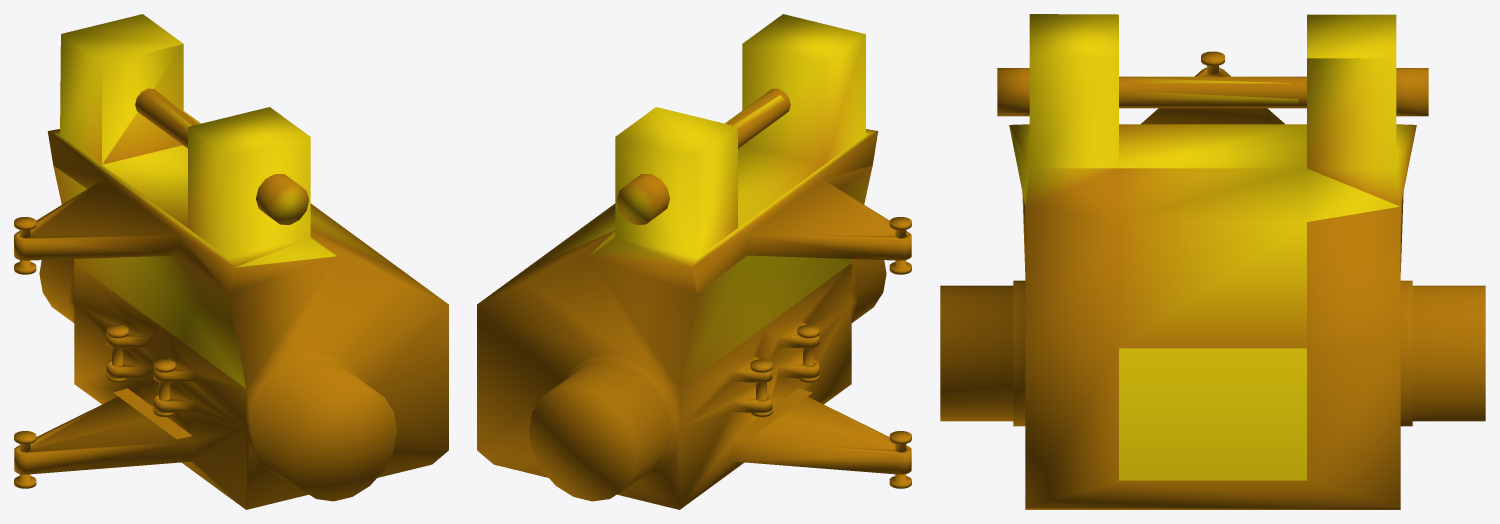
Rendered from frontbase_Link_with_cylinder.dae.
The picture shows the model from 3 angles, left to right: view 1: azimuth 30°, elevation 25°; view 2: azimuth 150°, elevation 25°; view 3: azimuth 270°, elevation 25°; orthographic projection. The views are drawn at different scales.
Parts seen in each view (by area): view 1: node0; view 2: node0; view 3: node0.
Boxes of the visible parts, x1,y1,x2,y2 form: node0: (14,14,448,509); node0: (477,14,911,509); node0: (940,14,1485,509).
Bounding box in the file's own units: 1.8 × 2.24 × 1.78.
